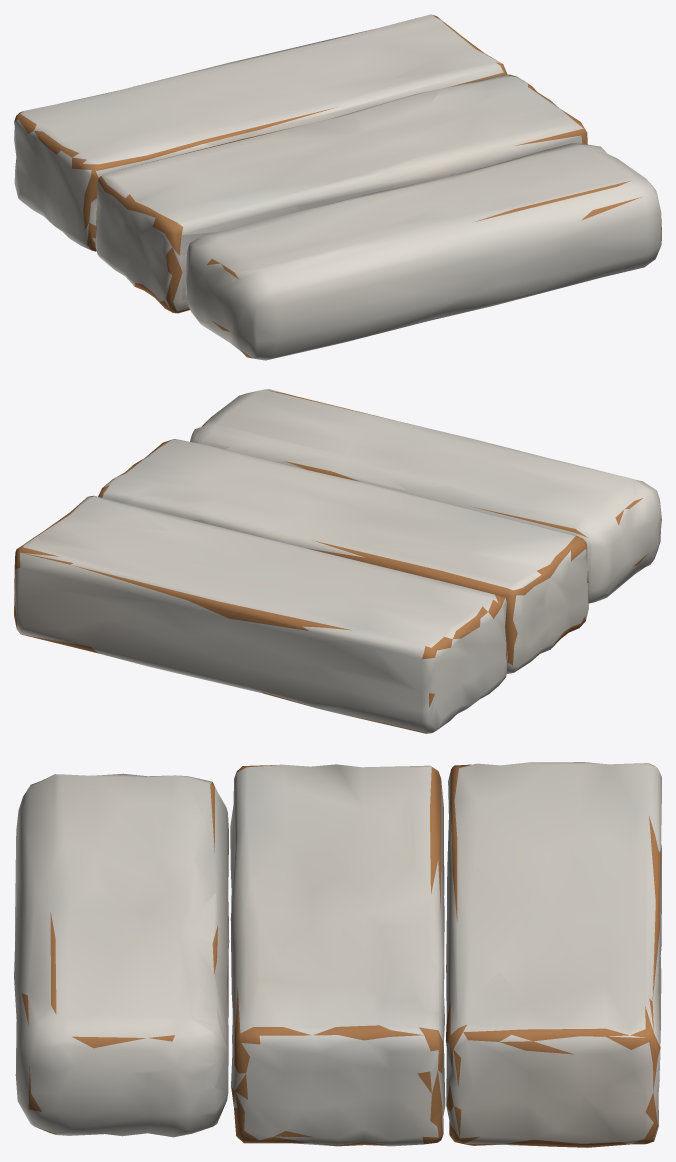
Rendered from frost_sill_ledge_b_lod1.glb.
3 views of the same model, one above another, from view 1: azimuth 30°, elevation 25°; view 2: azimuth 150°, elevation 25°; view 3: azimuth 270°, elevation 25° (orthographic). The views are drawn at different scales.
Visible parts, largest first — view 1: frost_sill_ledge_b.001; view 2: frost_sill_ledge_b.001; view 3: frost_sill_ledge_b.001.
Part boxes in pixels (<box>): frost_sill_ledge_b.001: <box>14,14,661,360</box>; frost_sill_ledge_b.001: <box>14,389,661,733</box>; frost_sill_ledge_b.001: <box>14,762,661,1147</box>.
Size of the model in its own units: 20.15 by 4.19 by 19.99.
